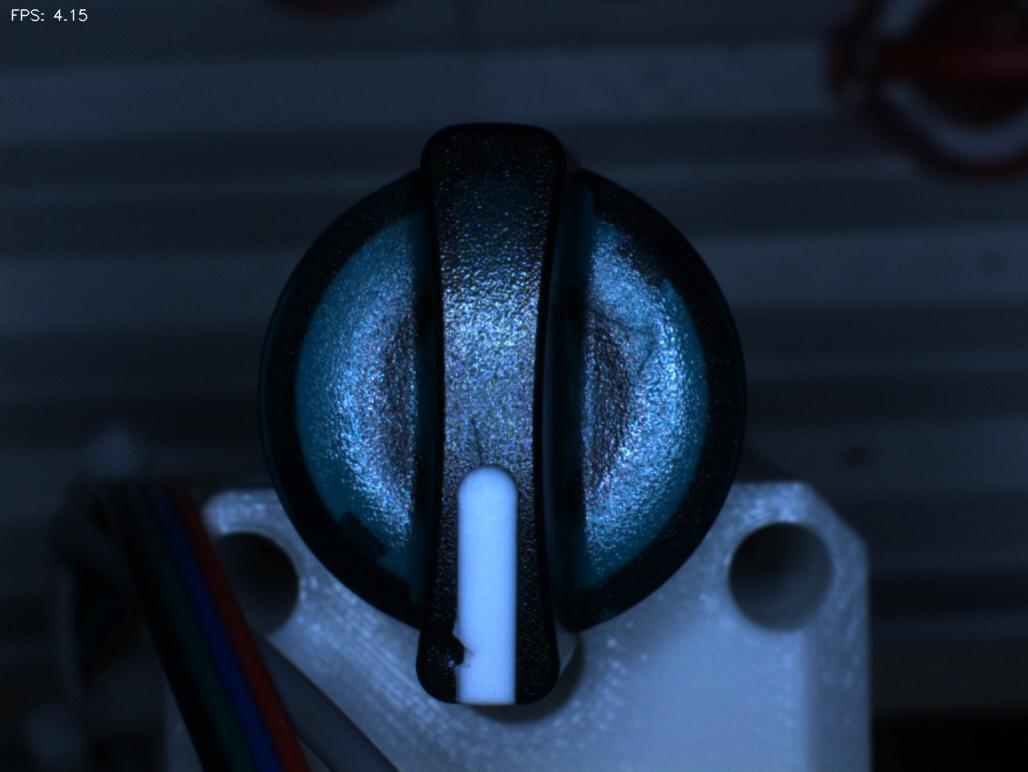Choc: (411, 611, 492, 689)
